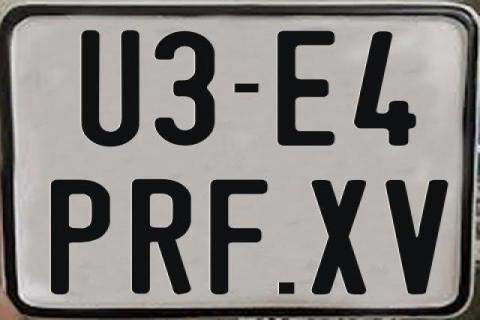0: (351, 30, 416, 146), (154, 30, 215, 146)
E: (276, 29, 337, 144)
F: (207, 177, 269, 293)
P: (51, 180, 113, 296)
R: (132, 180, 194, 298)
U: (80, 29, 142, 148)
V: (383, 177, 447, 293)
X: (311, 179, 366, 295)
